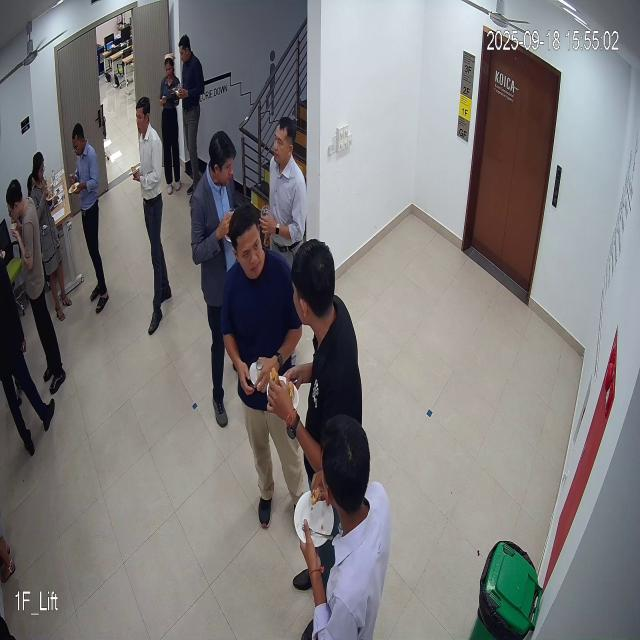face: (223, 203, 267, 285), (270, 114, 298, 174)
